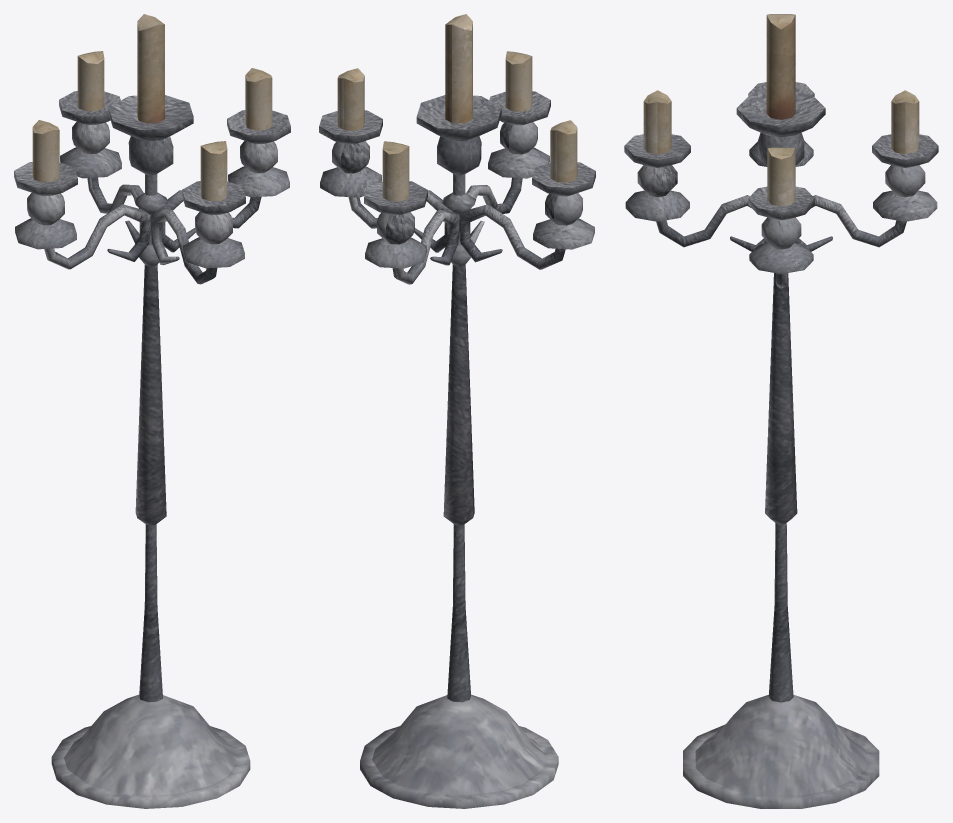
Rendered from small_candle_stand.glb.
3 views of the same model, side by side, from view 1: azimuth 30°, elevation 25°; view 2: azimuth 150°, elevation 25°; view 3: azimuth 270°, elevation 25° (orthographic).
Parts seen in each view (by area): view 1: Small candles; view 2: Small candles; view 3: Small candles.
Part boxes in pixels (left/top/right/bottom): Small candles: left=14, top=14, right=290, bottom=808; Small candles: left=319, top=14, right=595, bottom=808; Small candles: left=624, top=14, right=938, bottom=808.
Bounding box in the file's own units: 121 × 321 × 121.
2 materials, 2 textured.
